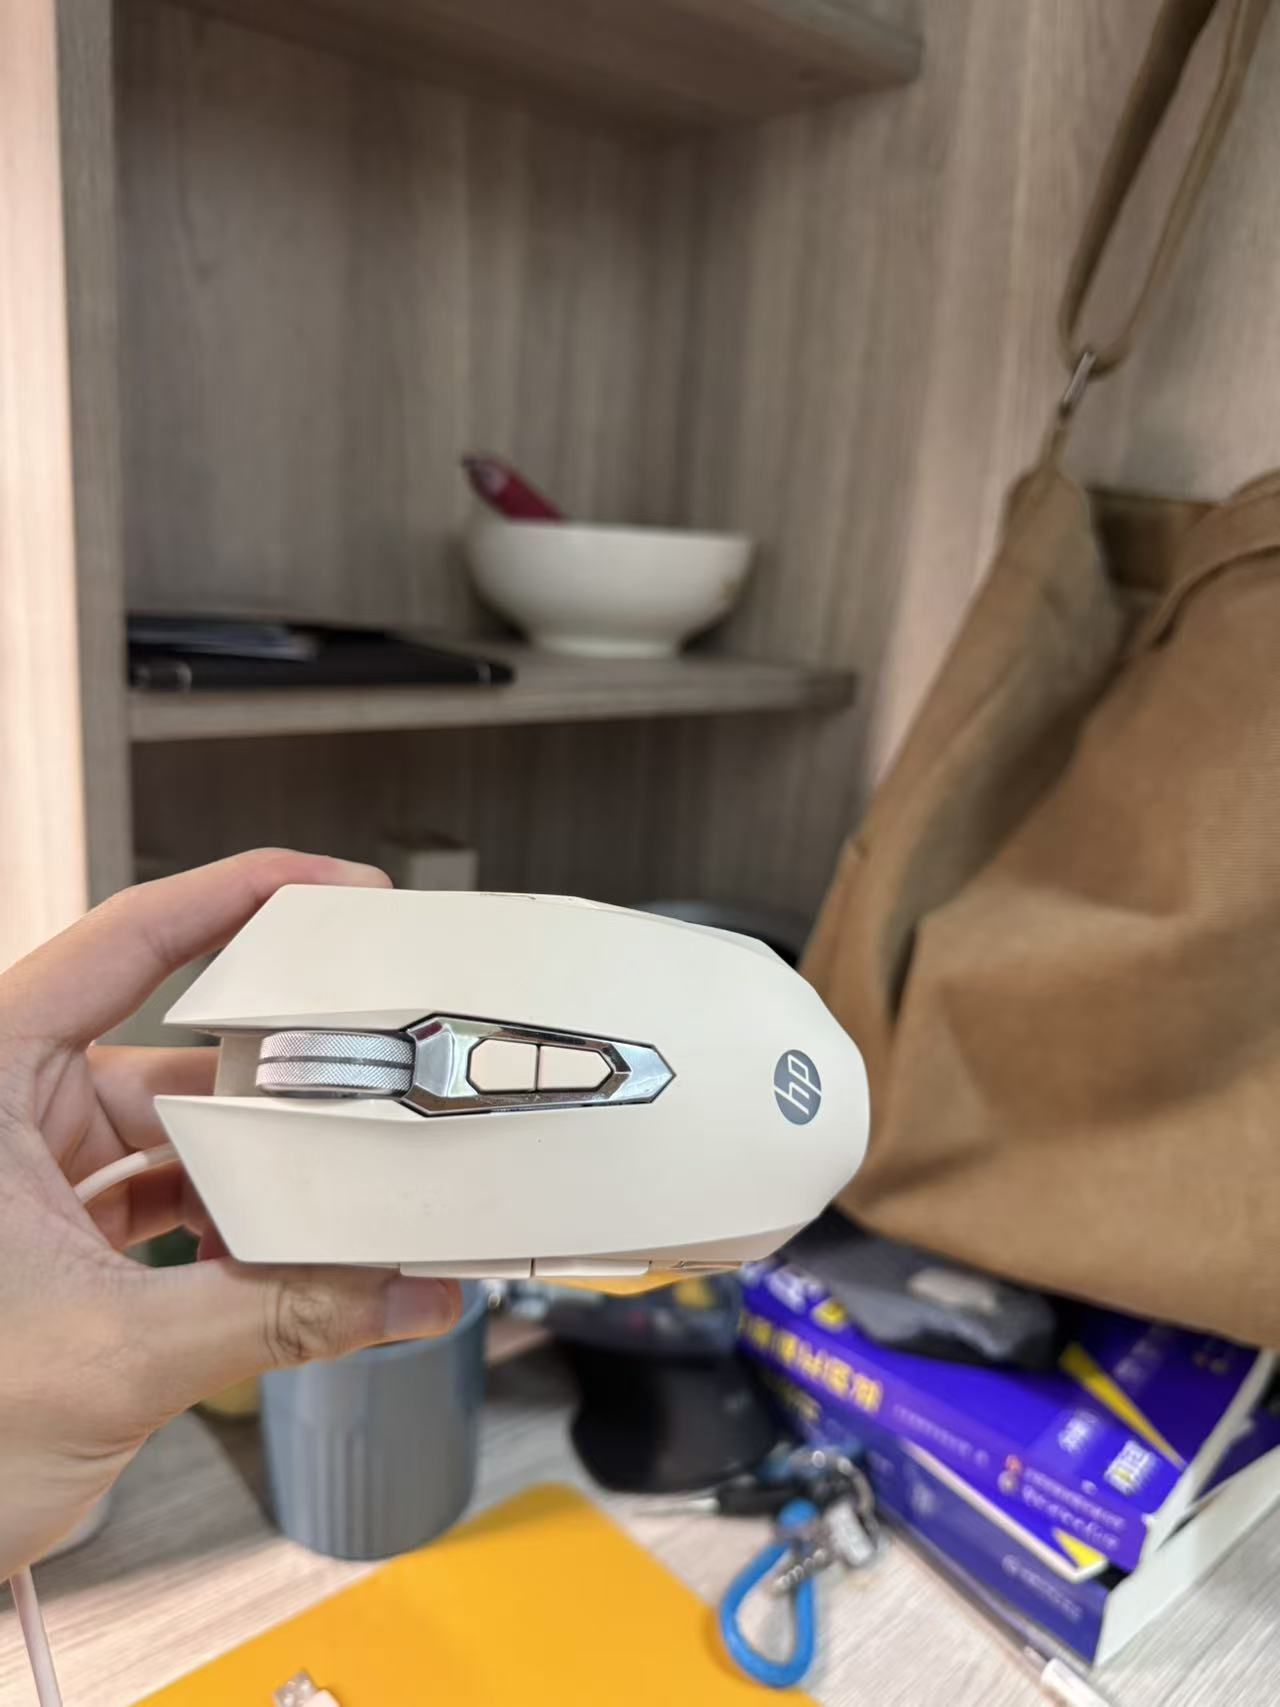mouse: (141, 814, 957, 1384)
